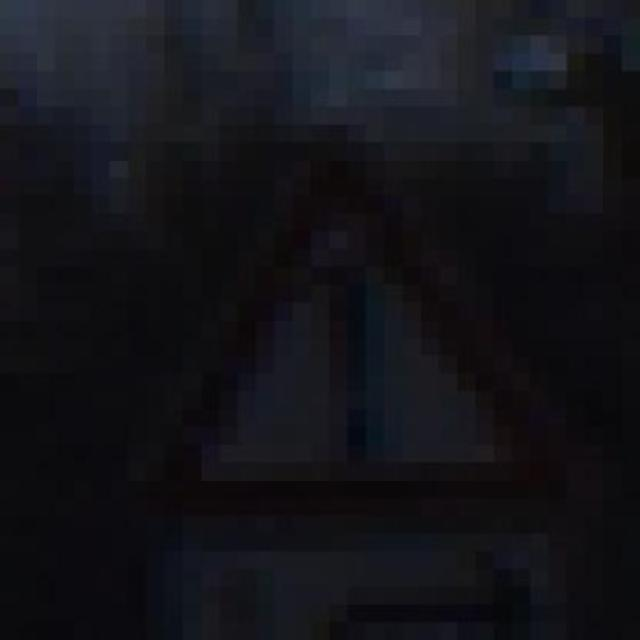Attention Please-: (110, 106, 585, 534)
